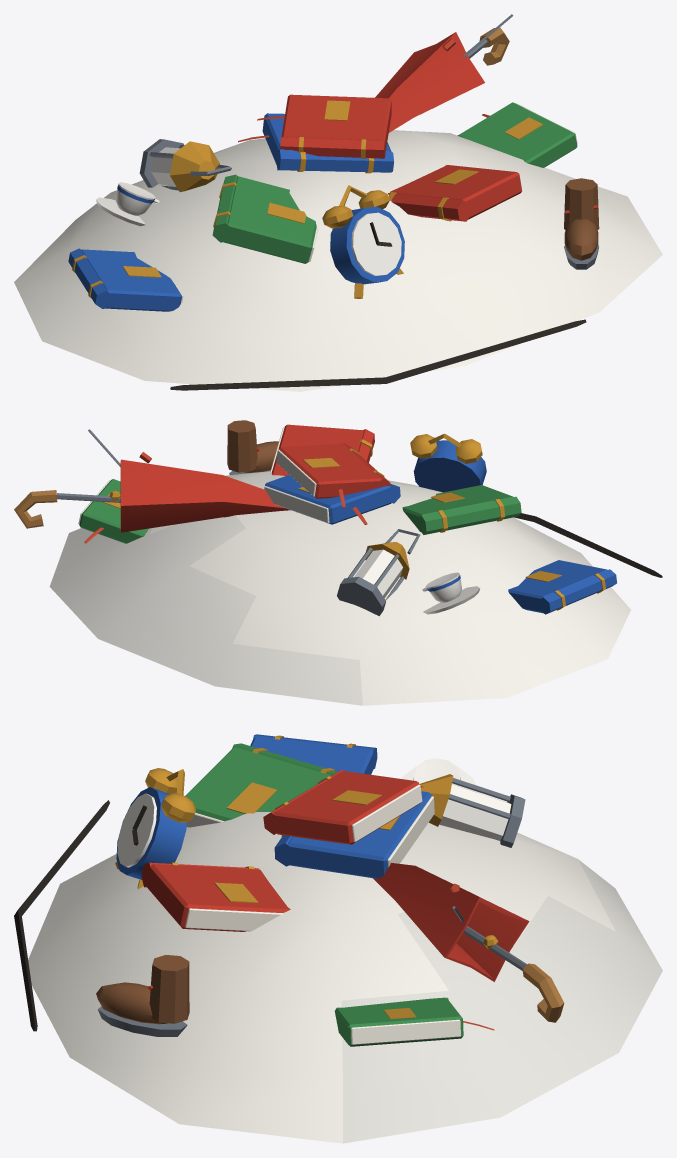
File: ItemPile.fbx
3 renders of one model, top to bottom at view 1: azimuth 30°, elevation 25°; view 2: azimuth 150°, elevation 25°; view 3: azimuth 270°, elevation 25°, orthographic. The views are drawn at different scales.
Parts seen in each view (by area): view 1: Pile; view 2: Pile; view 3: Pile.
Boxes of the visible parts, left/top/right/bottom form: Pile: left=14, top=14, right=662, bottom=391; Pile: left=14, top=420, right=662, bottom=705; Pile: left=14, top=734, right=662, bottom=1143.
Bounding box in the file's own units: 2.12 × 0.5682 × 1.69.
